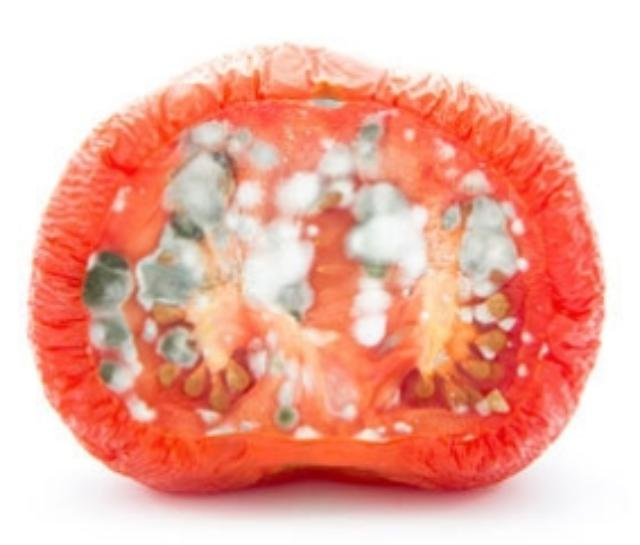defect: (21, 27, 615, 515)
